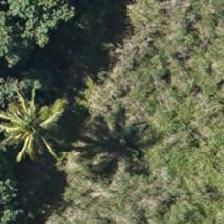coconut_tree: (0, 79, 73, 169)
